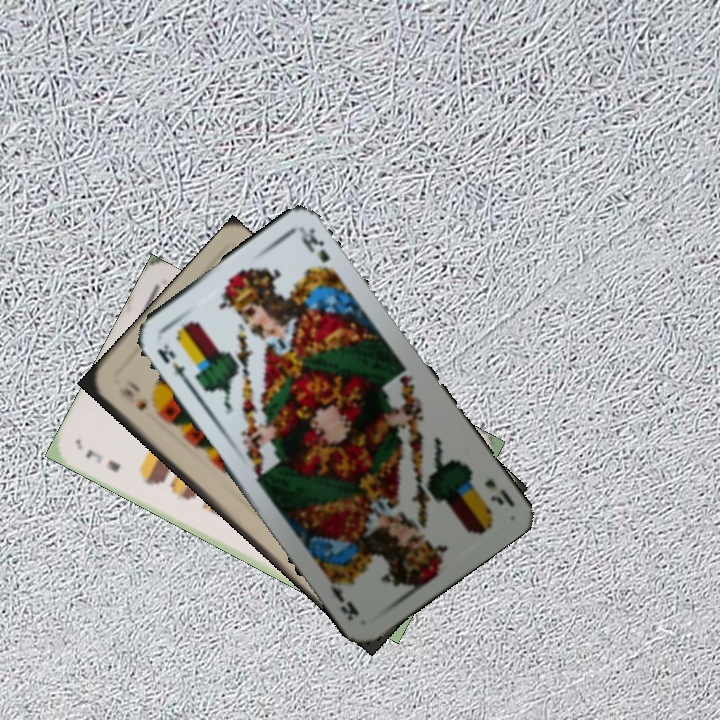E7: (81, 445, 123, 475)
EK: (153, 340, 193, 388), (481, 474, 517, 510)
S10: (115, 383, 150, 413)
